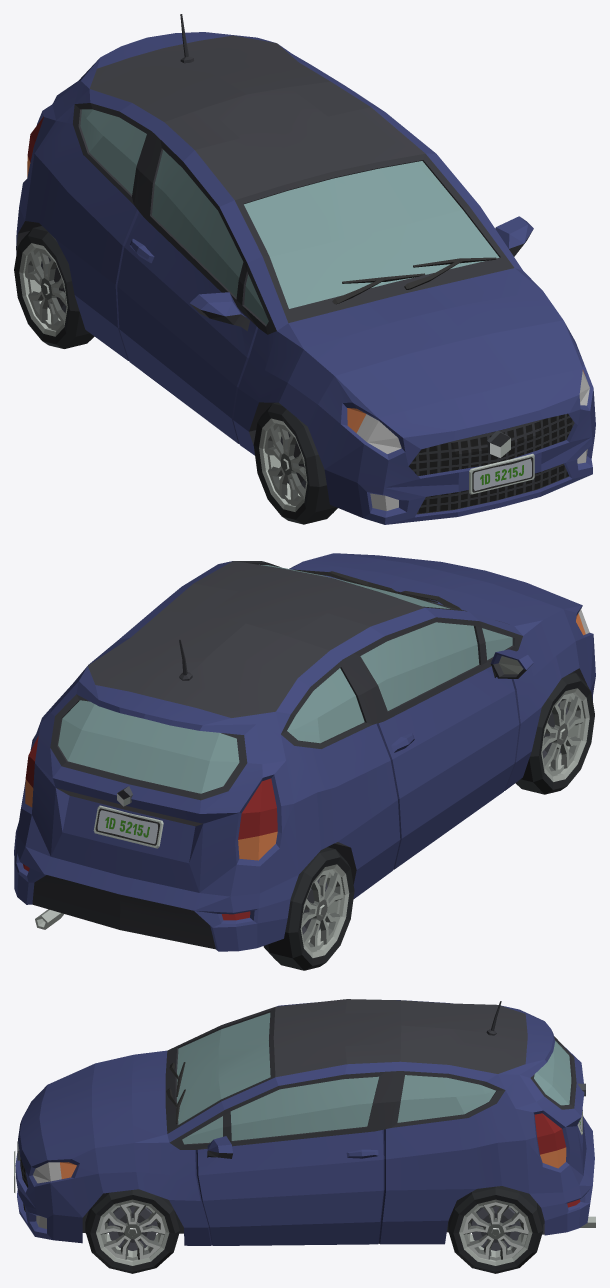
Rendered from small_hatchback_from_synty.glb.
The picture shows the model from 3 angles, top to bottom: view 1: azimuth 30°, elevation 25°; view 2: azimuth 150°, elevation 25°; view 3: azimuth 270°, elevation 25°; orthographic projection. The views are drawn at different scales.
Visible parts, largest first — view 1: SM_Veh_Car_Small_01, SM_Veh_Car_Small_Glass, SM_Veh_Car_Small_Wheel_fr, SM_Veh_Car_Small_Wheel_rr, SM_Veh_Car_Small_Plates; view 2: SM_Veh_Car_Small_01, SM_Veh_Car_Small_Glass, SM_Veh_Car_Small_Wheel_rr, SM_Veh_Car_Small_Wheel_fr, SM_Veh_Car_Small_Plates; view 3: SM_Veh_Car_Small_01, SM_Veh_Car_Small_Glass, SM_Veh_Car_Small_Wheel_rl, SM_Veh_Car_Small_Wheel_fl.
Part boxes in pixels (left/top/right/bottom): SM_Veh_Car_Small_01: left=16, top=14, right=595, bottom=524; SM_Veh_Car_Small_Glass: left=80, top=109, right=499, bottom=324; SM_Veh_Car_Small_Wheel_fr: left=253, top=402, right=337, bottom=524; SM_Veh_Car_Small_Wheel_rr: left=14, top=226, right=94, bottom=348; SM_Veh_Car_Small_Plates: left=469, top=453, right=534, bottom=494; SM_Veh_Car_Small_01: left=14, top=553, right=595, bottom=951; SM_Veh_Car_Small_Glass: left=58, top=564, right=512, bottom=793; SM_Veh_Car_Small_Wheel_rr: left=263, top=847, right=354, bottom=970; SM_Veh_Car_Small_Wheel_fr: left=515, top=672, right=594, bottom=794; SM_Veh_Car_Small_Plates: left=93, top=805, right=163, bottom=848; SM_Veh_Car_Small_01: left=15, top=999, right=595, bottom=1245; SM_Veh_Car_Small_Glass: left=177, top=1012, right=571, bottom=1144; SM_Veh_Car_Small_Wheel_rl: left=448, top=1186, right=543, bottom=1273; SM_Veh_Car_Small_Wheel_fl: left=85, top=1189, right=179, bottom=1273.
Bounding box in the file's own units: 2.07 × 1.73 × 4.08.
3 materials, 2 textured.
